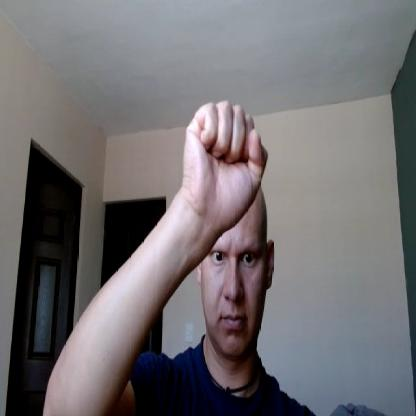S: (184, 97, 269, 224)
